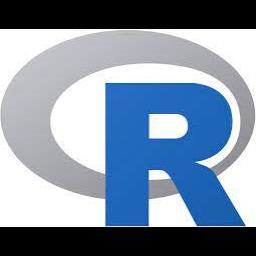r: (98, 78, 256, 228)
